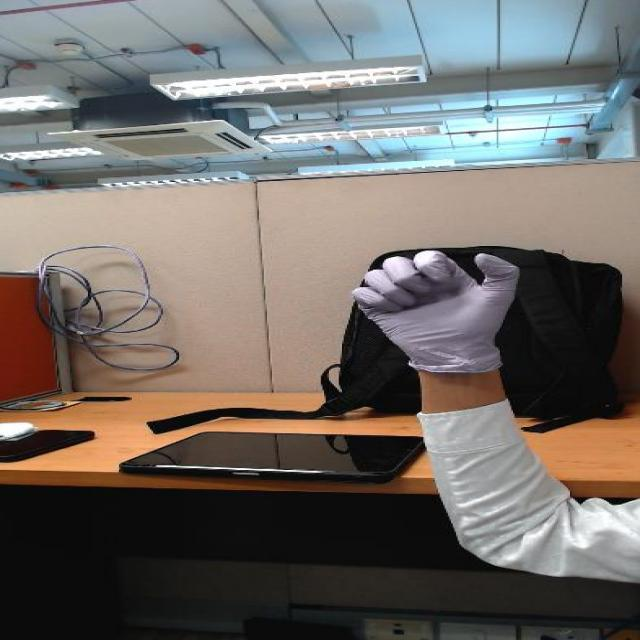with_gloves: (316, 235, 536, 334)
